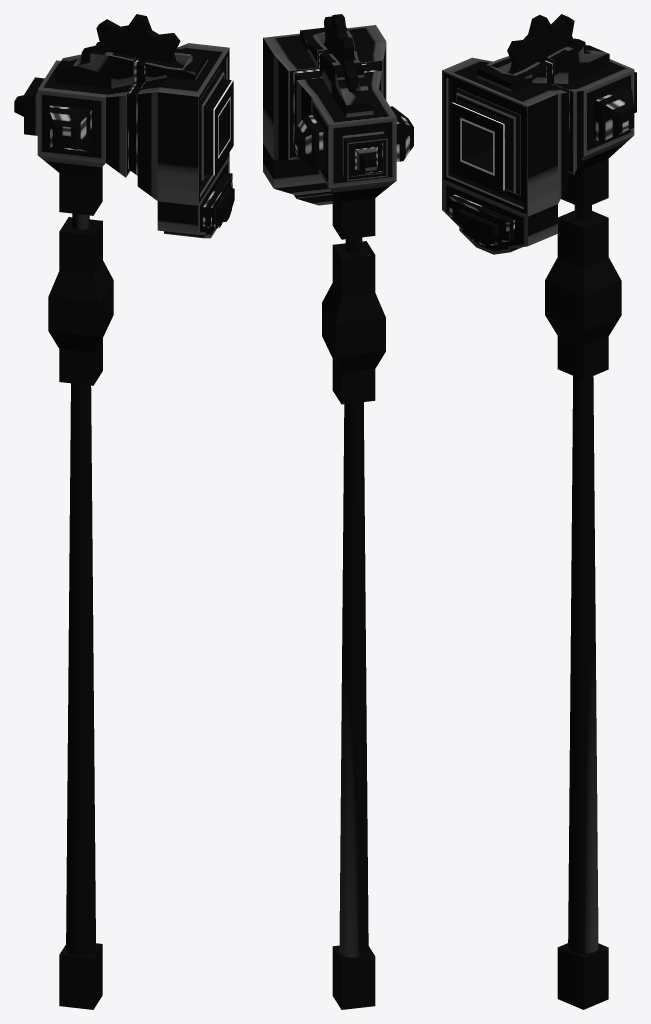
Rendered from Dispenser_2_0.fbx.
3 renders of one model, left to right at view 1: azimuth 30°, elevation 25°; view 2: azimuth 150°, elevation 25°; view 3: azimuth 270°, elevation 25°, orthographic. The views are drawn at different scales.
Visible parts, largest first — view 1: Dispenser, Dispenser_Prop_0, Dispenser_Prop_1, Gear; view 2: Dispenser, Dispenser_Prop_0, Dispenser_Prop_1, Gear; view 3: Dispenser, Dispenser_Prop_0, Dispenser_Prop_1, Gear.
Part boxes in pixels (x1=…): Dispenser: x1=14, y1=42, x2=234, y2=238; Dispenser_Prop_0: x1=59, y1=167, x2=102, y2=1009; Dispenser_Prop_1: x1=48, y1=217, x2=113, y2=385; Gear: x1=81, y1=14, x2=181, y2=64; Dispenser: x1=263, y1=25, x2=413, y2=205; Dispenser_Prop_0: x1=332, y1=192, x2=375, y2=1009; Dispenser_Prop_1: x1=322, y1=241, x2=385, y2=404; Gear: x1=323, y1=14, x2=358, y2=91; Dispenser: x1=442, y1=42, x2=636, y2=254; Dispenser_Prop_0: x1=557, y1=158, x2=608, y2=1009; Dispenser_Prop_1: x1=545, y1=210, x2=621, y2=379; Gear: x1=507, y1=14, x2=585, y2=74.
Bounding box in the file's own units: 1.6 × 9.08 × 1.6.
Materials: 1 (1 with a texture image).
